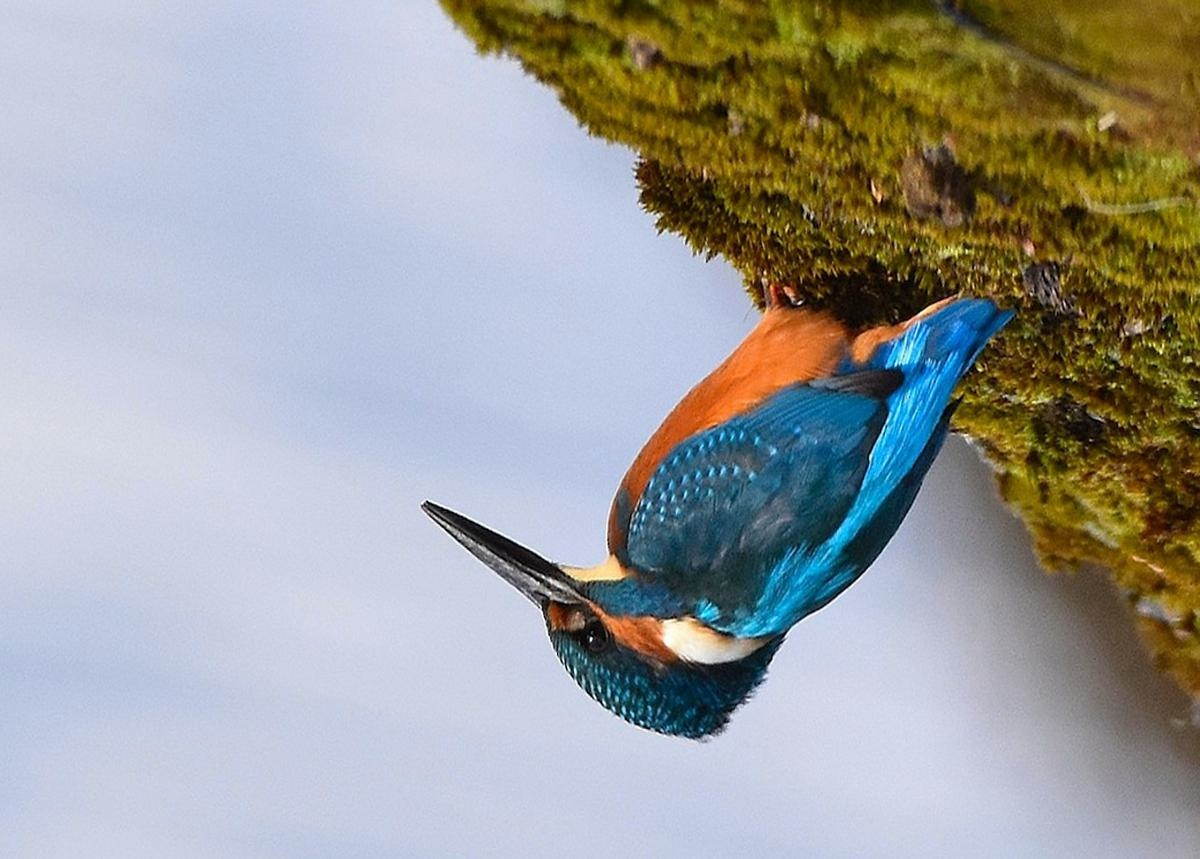kingfisher: (413, 274, 995, 752)
